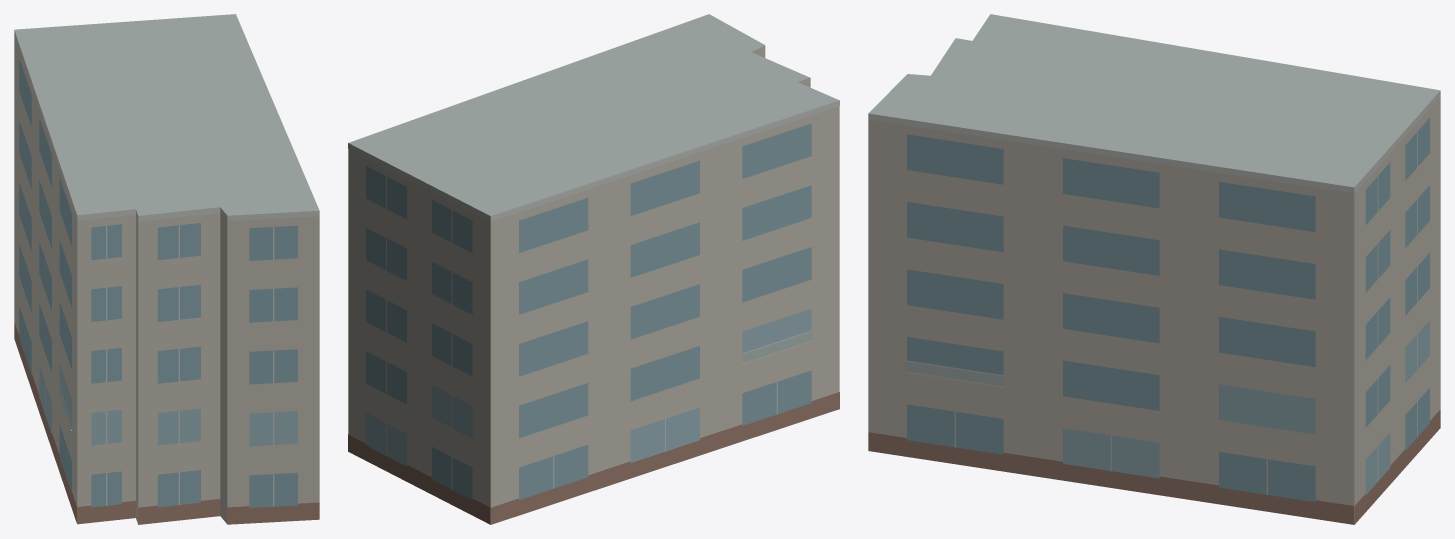
File: survey-upis-32997138.glb
3 views of the same model, side by side, from view 1: azimuth 30°, elevation 25°; view 2: azimuth 150°, elevation 25°; view 3: azimuth 270°, elevation 25° (orthographic). The views are drawn at different scales.
Parts seen in each view (by area): view 1: survey-upis-32997138.tmp; view 2: survey-upis-32997138.tmp; view 3: survey-upis-32997138.tmp.
Part boxes in pixels (bbox=[...]): survey-upis-32997138.tmp: bbox=[14, 14, 319, 524]; survey-upis-32997138.tmp: bbox=[348, 14, 839, 524]; survey-upis-32997138.tmp: bbox=[868, 14, 1440, 524].
Size of the model in its own units: 14.89 by 13.5 by 20.76.
